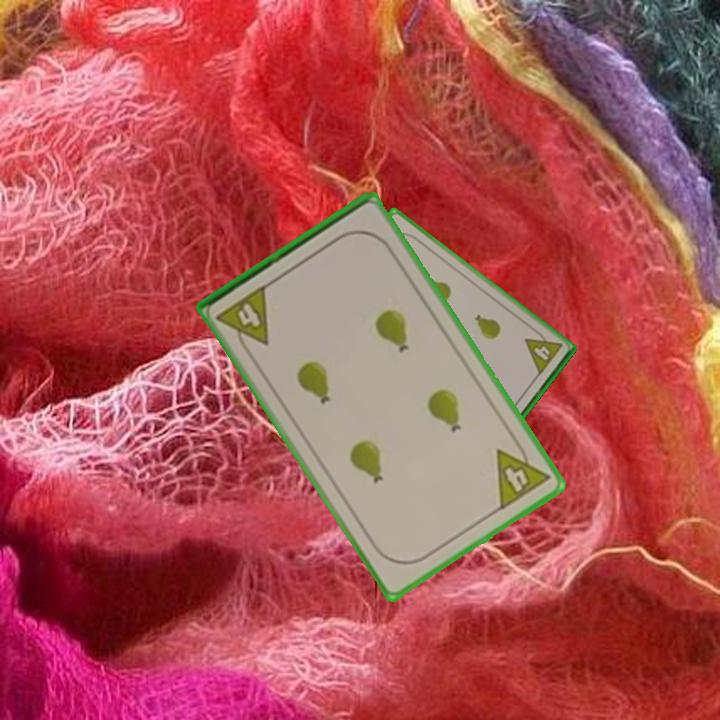4p: (493, 434, 553, 513), (212, 281, 273, 358), (521, 325, 565, 378)
